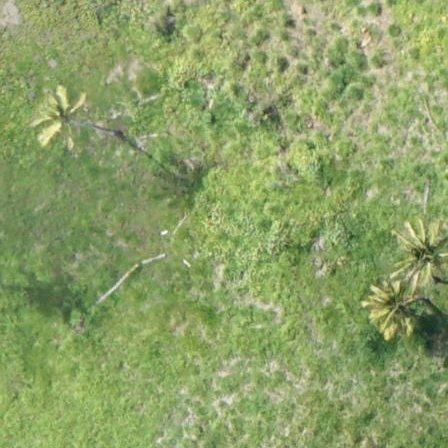palm_tree: (363, 280, 424, 341), (393, 219, 448, 283), (32, 87, 86, 144)
